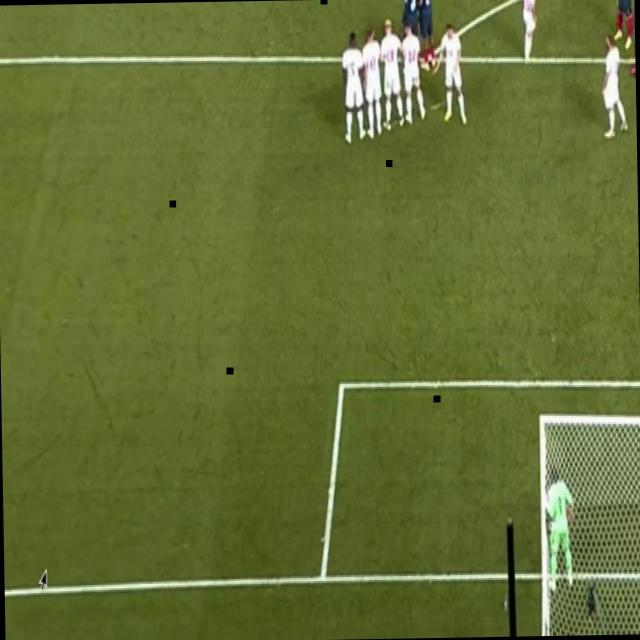player-white: (541, 464, 577, 594), (436, 22, 473, 130), (599, 29, 630, 144), (375, 16, 404, 134), (340, 31, 368, 147), (401, 15, 429, 130), (361, 22, 383, 143), (416, 0, 437, 76), (521, 0, 540, 66), (612, 0, 635, 52), (401, 0, 421, 40), (628, 0, 636, 93)
